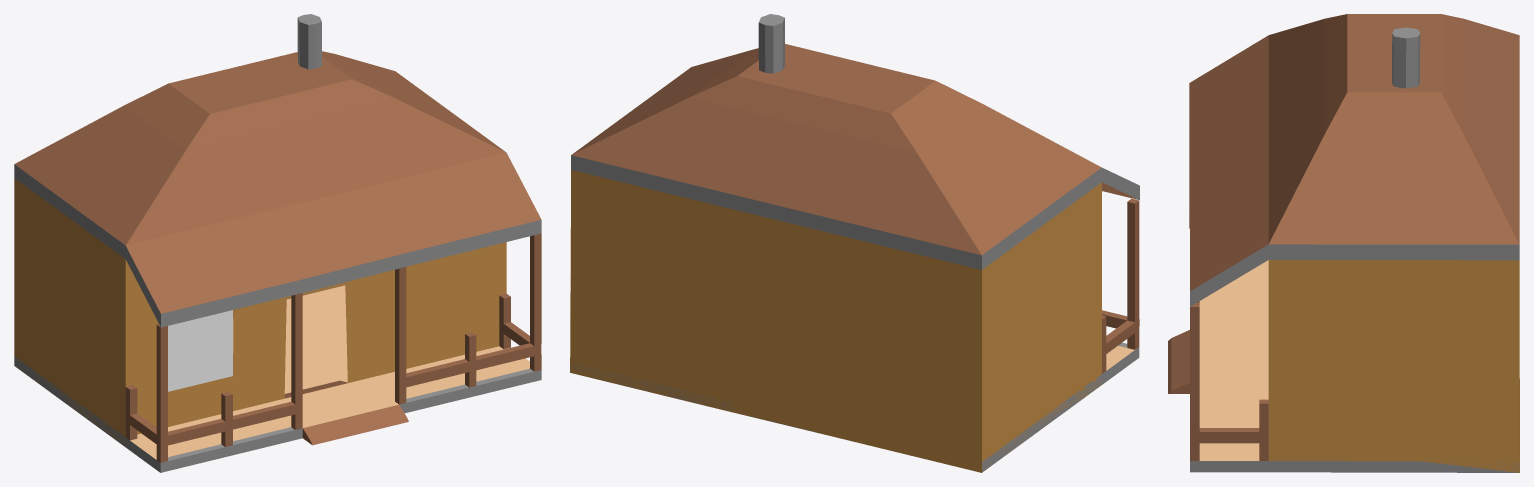
The model's file is House1.fbx.
3 renders of one model, left to right at view 1: azimuth 30°, elevation 25°; view 2: azimuth 150°, elevation 25°; view 3: azimuth 270°, elevation 25°, orthographic. The views are drawn at different scales.
Parts seen in each view (by area): view 1: House, Window; view 2: House; view 3: House.
Part boxes in pixels (box(x1,y1,x2,y2)): House: box(14, 14, 541, 472); Window: box(168, 310, 232, 391); House: box(570, 14, 1139, 472); House: box(1168, 14, 1519, 472).
Size of the model in its own units: 15835 by 12831 by 11206.
